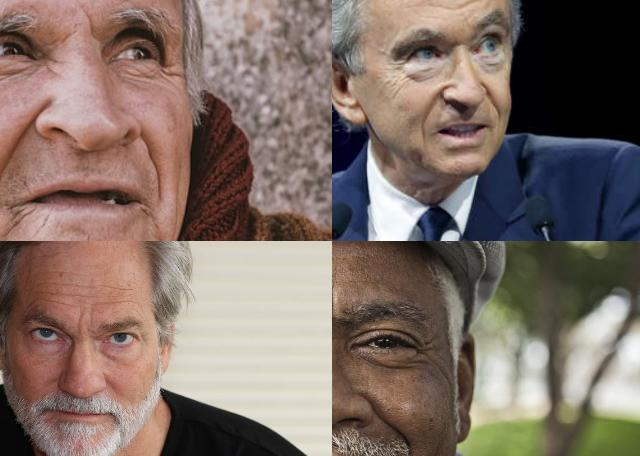crows_feet: (410, 338, 436, 368), (157, 62, 179, 94), (386, 61, 408, 91)
forehead: (37, 285, 71, 309), (413, 0, 500, 9), (77, 282, 97, 308), (102, 294, 134, 310), (38, 265, 70, 279)
frown_line: (82, 9, 96, 41), (332, 289, 340, 322)
gummy_smile: (0, 120, 28, 189), (375, 411, 417, 447), (140, 136, 164, 192), (482, 80, 504, 123), (421, 85, 441, 127)
masseter: (170, 184, 180, 240)
sad_smile: (1, 202, 29, 228), (137, 198, 159, 228)
